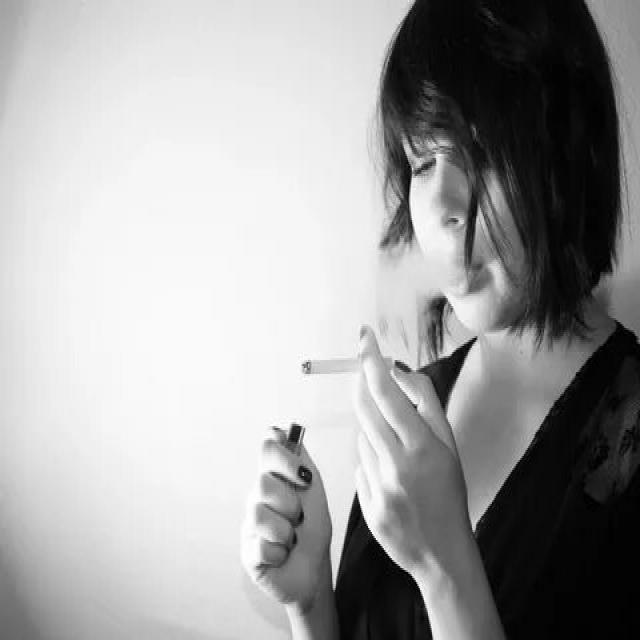smoke: (301, 352, 396, 376)
